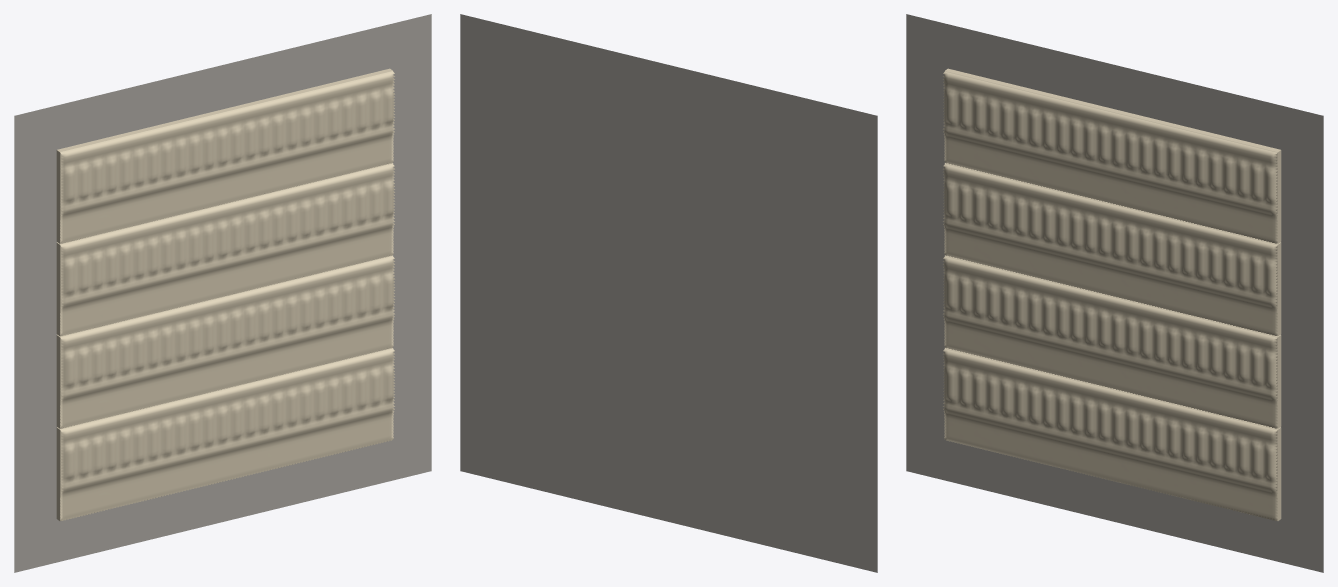
File: terilgan.glb
3 renders of one model, left to right at view 1: azimuth 30°, elevation 25°; view 2: azimuth 150°, elevation 25°; view 3: azimuth 330°, elevation 25°, orthographic.
Visible parts, largest first — view 1: Plane, t3_0, t0_0, t1_0, t2_0; view 2: Plane; view 3: Plane, t3_0, t0_0, t1_0, t2_0.
Boxes of the visible parts, bbox=[...] form: Plane: bbox=[14, 14, 431, 572]; t3_0: bbox=[56, 68, 394, 243]; t0_0: bbox=[56, 348, 394, 520]; t1_0: bbox=[56, 255, 394, 428]; t2_0: bbox=[56, 163, 394, 336]; Plane: bbox=[460, 14, 877, 572]; Plane: bbox=[906, 14, 1323, 572]; t3_0: bbox=[943, 68, 1281, 243]; t0_0: bbox=[943, 348, 1281, 520]; t1_0: bbox=[943, 255, 1281, 428]; t2_0: bbox=[943, 163, 1281, 336].
Size of the model in its own units: 1.5 by 1.57 by 0.0416.
